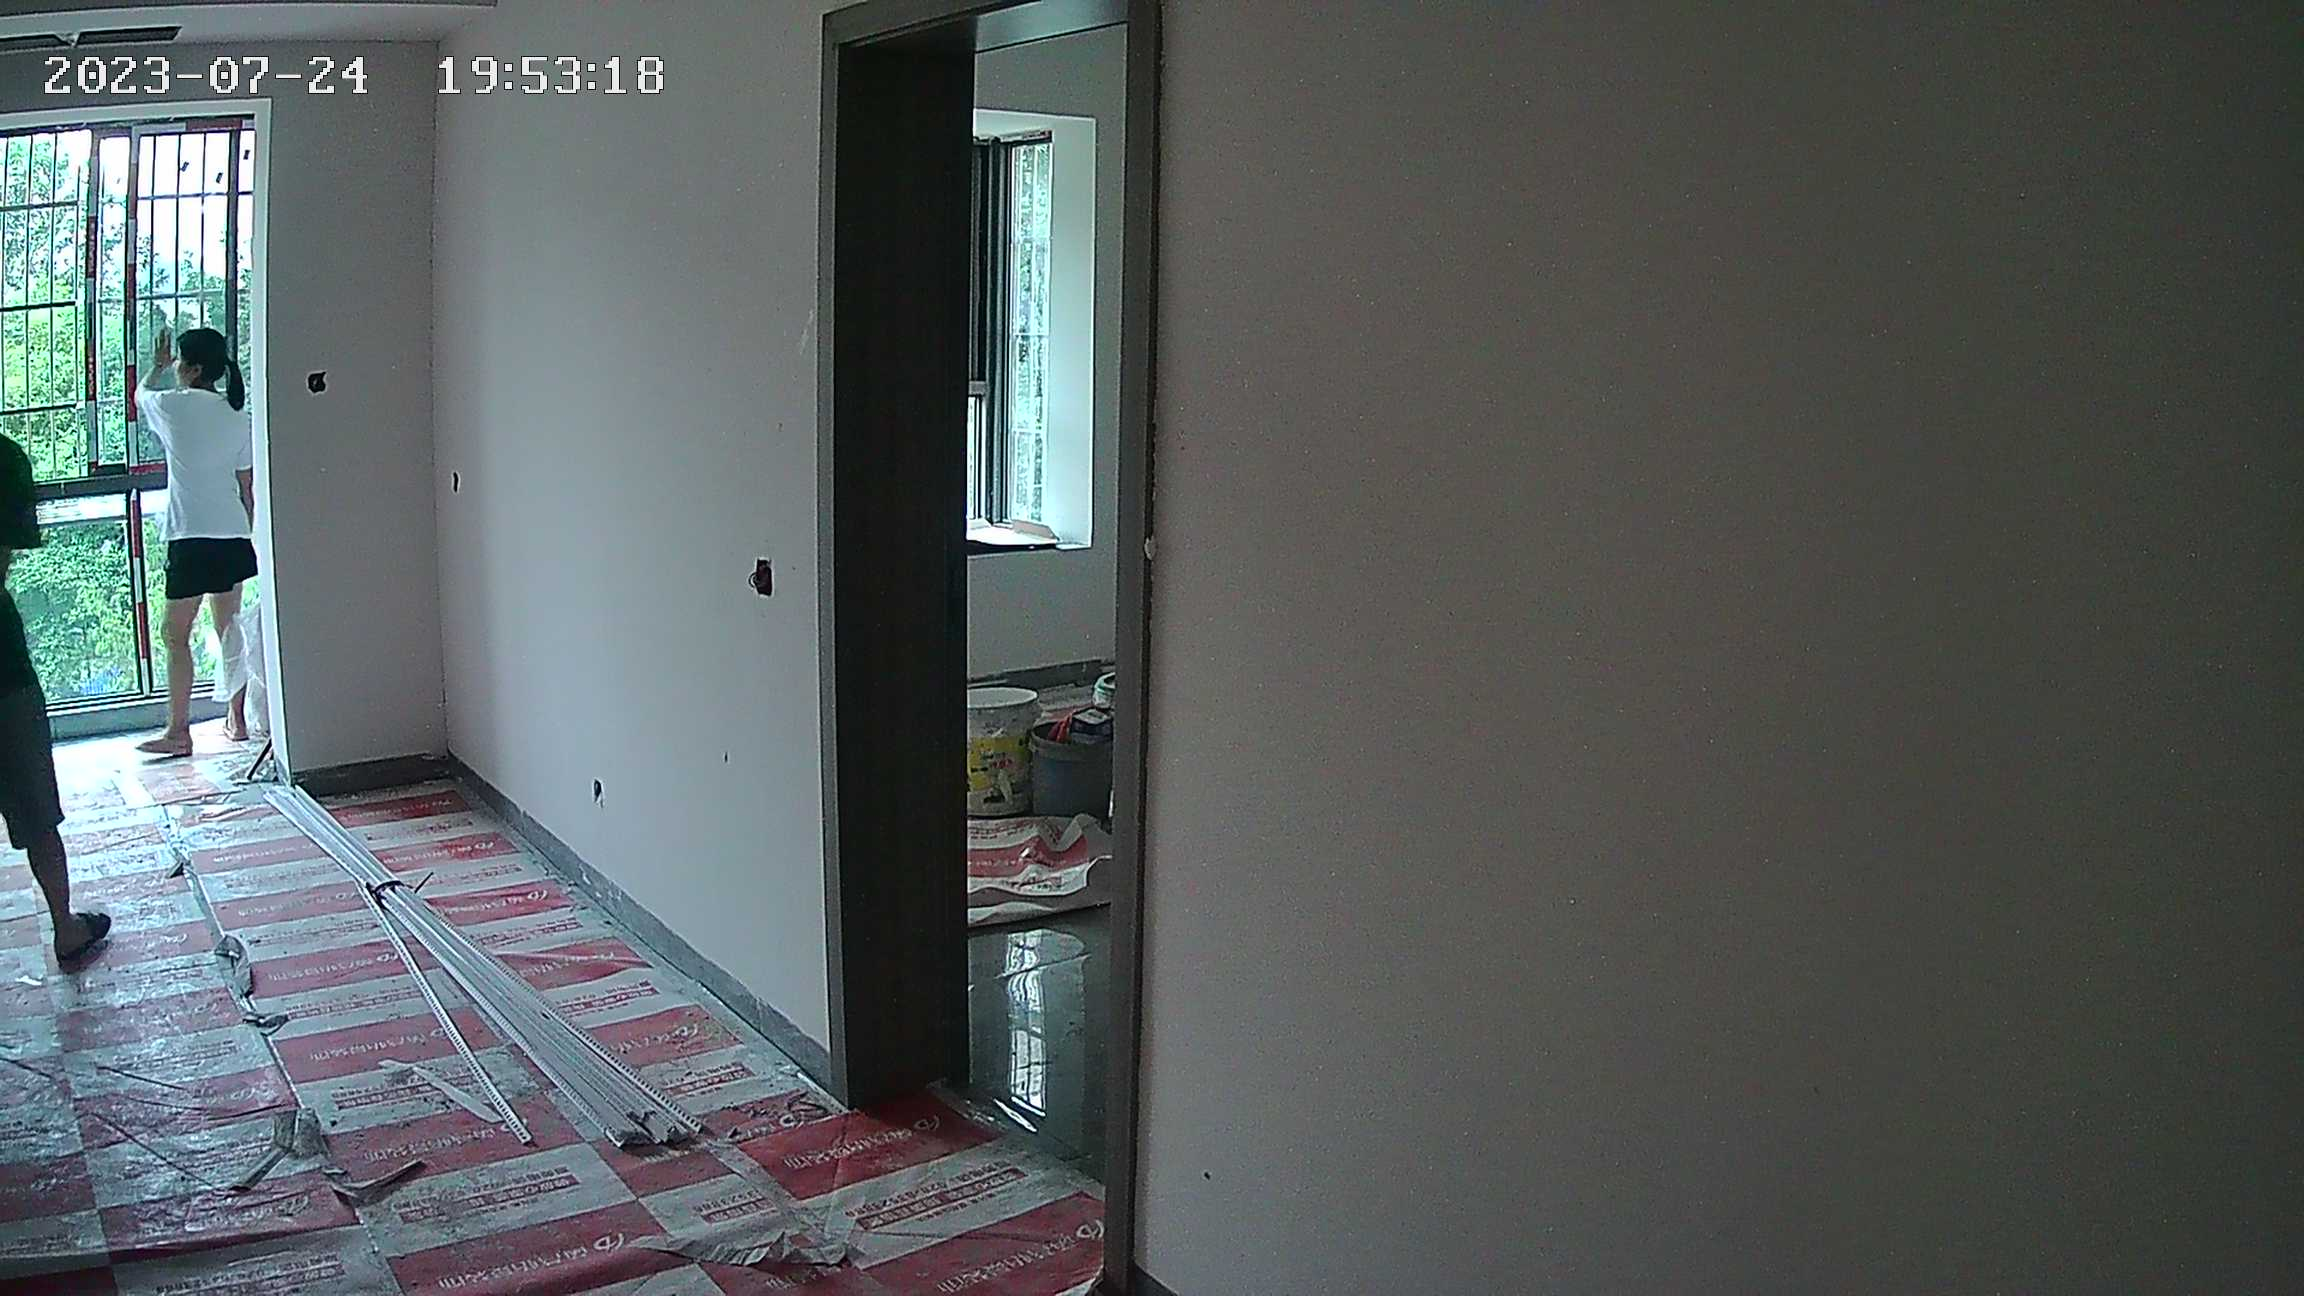people: (129, 328, 274, 762)
window: (18, 107, 264, 724), (975, 131, 1046, 532)
